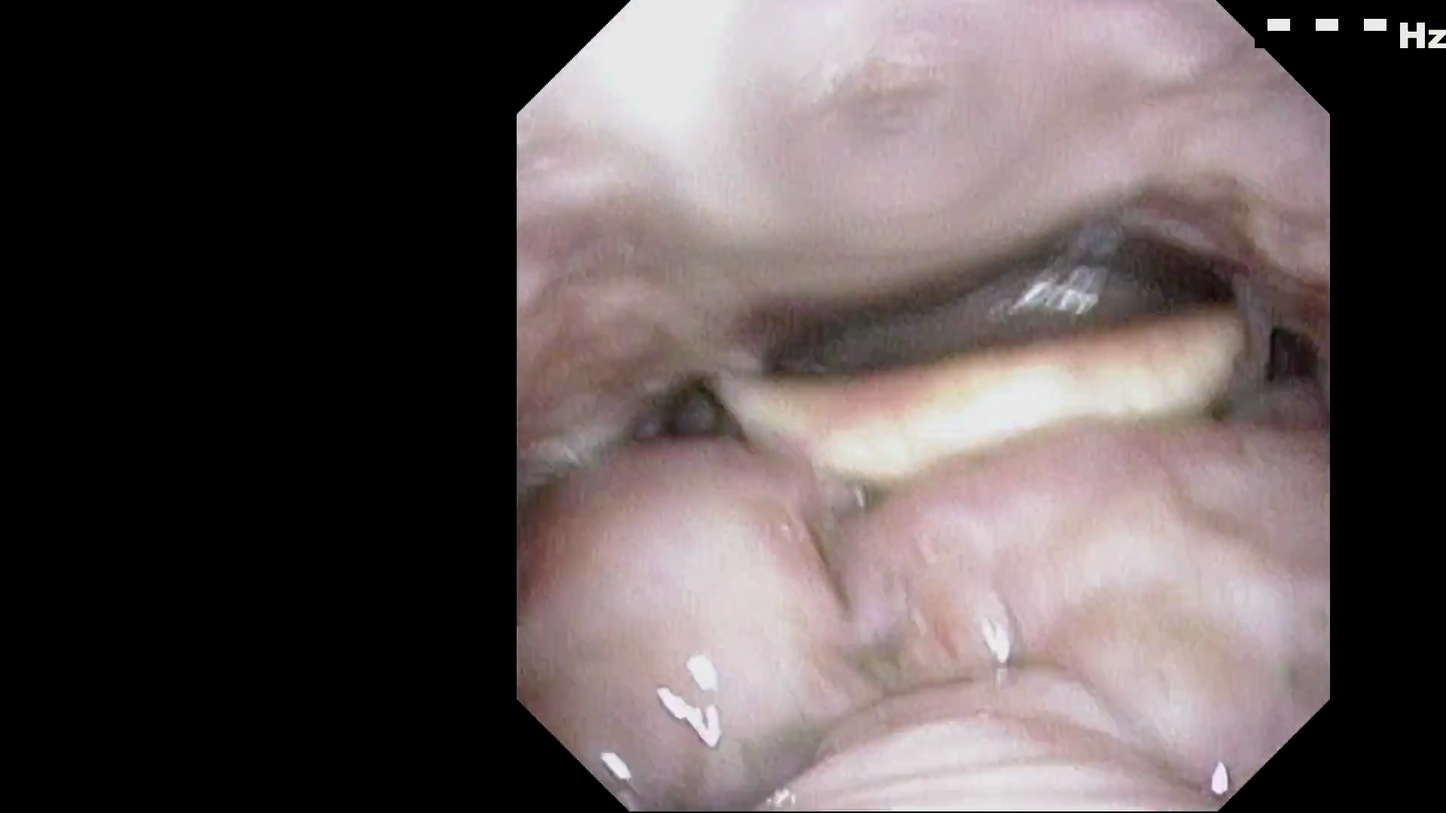epiglottis: (720, 388, 1300, 539)
